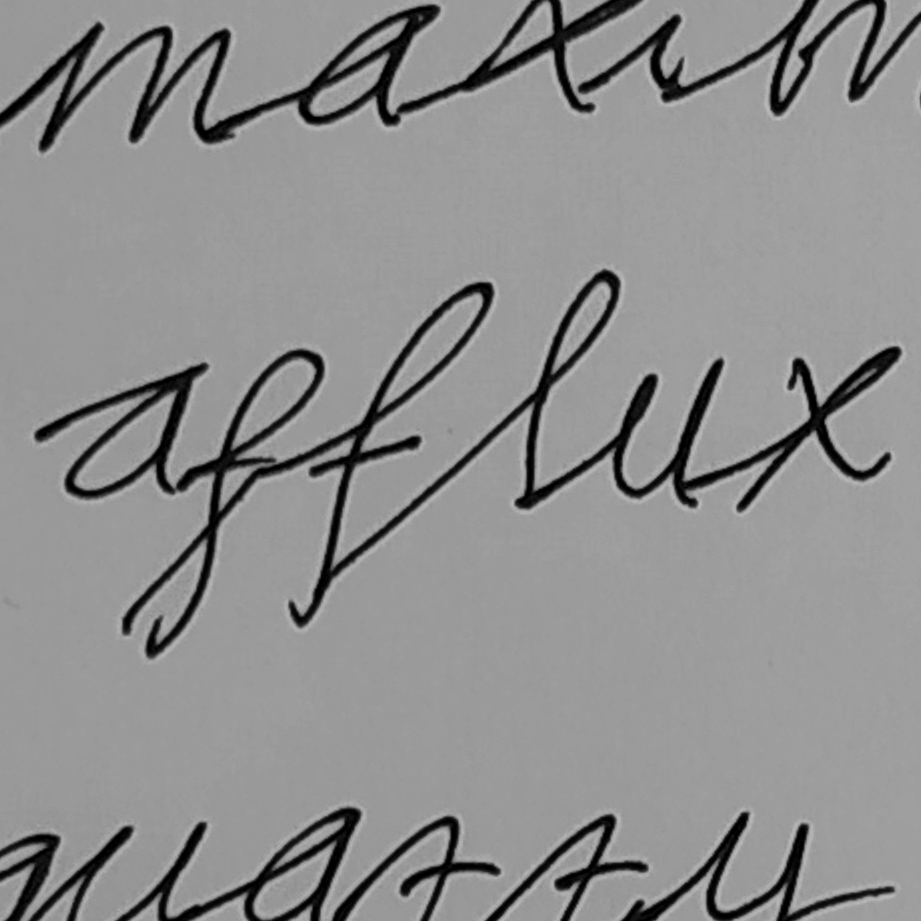a: (59, 360, 188, 506)
f: (283, 277, 498, 630), (115, 345, 326, 663)
l: (510, 266, 624, 515)
u: (610, 352, 729, 515)
x: (733, 342, 904, 518)
